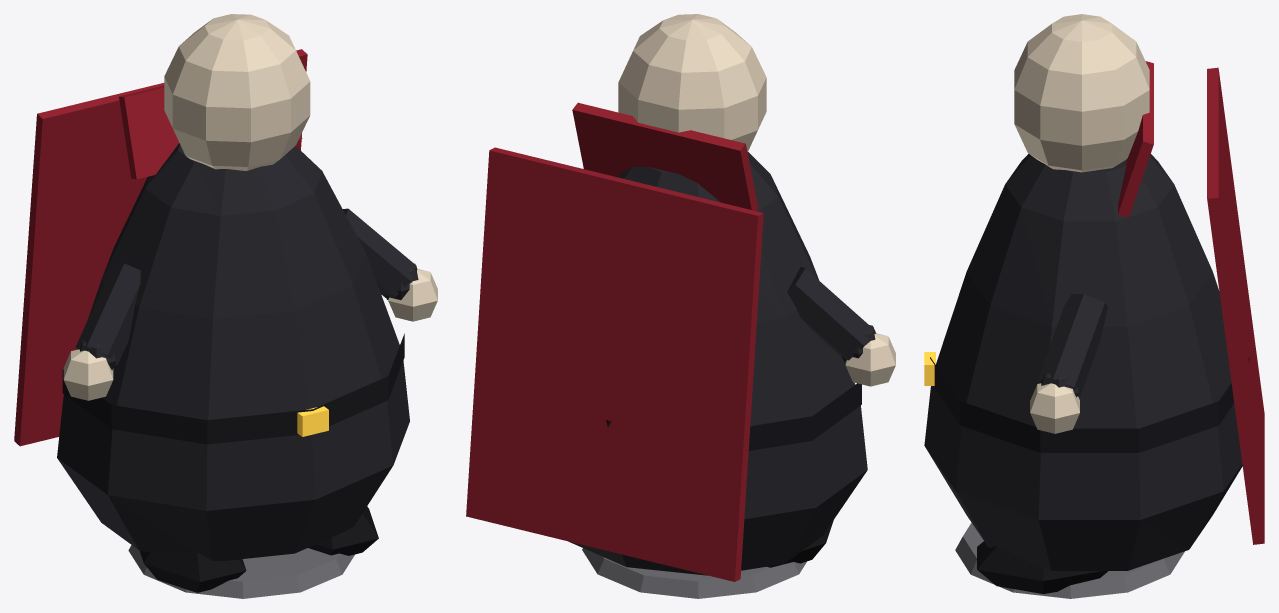
File: mannequin_vampire.glb
3 views of the same model, side by side, from view 1: azimuth 30°, elevation 25°; view 2: azimuth 150°, elevation 25°; view 3: azimuth 270°, elevation 25° (orthographic).
Parts seen in each view (by area): view 1: body_vampire_suit (×2), cape_vampire_cape, head_mannequin_plastic, body_black, arms_vampire_suit, stand_mannequin_stand, legs_vampire_shoes, collar_vampire_cape, arms_mannequin_plastic, body_gold; view 2: cape_vampire_cape, body_vampire_suit (×2), head_mannequin_plastic, collar_vampire_cape, stand_mannequin_stand, arms_vampire_suit, body_black, arms_mannequin_plastic; view 3: body_vampire_suit (×2), head_mannequin_plastic, cape_vampire_cape, body_black, arms_vampire_suit, stand_mannequin_stand, legs_vampire_shoes, collar_vampire_cape, arms_mannequin_plastic.
Boxes of the visible parts, x1,y1,x2,y2 form: body_vampire_suit (×2): (57, 143, 409, 560); cape_vampire_cape: (14, 49, 307, 446); head_mannequin_plastic: (164, 14, 310, 170); body_black: (62, 333, 404, 444); arms_vampire_suit: (75, 208, 418, 370); stand_mannequin_stand: (128, 545, 354, 598); legs_vampire_shoes: (139, 506, 378, 592); collar_vampire_cape: (119, 85, 302, 179); arms_mannequin_plastic: (63, 269, 437, 400); body_gold: (297, 406, 328, 436); cape_vampire_cape: (466, 147, 763, 581); body_vampire_suit (×2): (568, 152, 867, 575); head_mannequin_plastic: (618, 14, 766, 151); collar_vampire_cape: (572, 102, 758, 210); stand_mannequin_stand: (582, 548, 806, 598); arms_vampire_suit: (787, 267, 876, 362); body_black: (606, 383, 861, 450); arms_mannequin_plastic: (845, 333, 895, 386); body_vampire_suit (×2): (924, 153, 1242, 570); head_mannequin_plastic: (1014, 14, 1149, 172); cape_vampire_cape: (1207, 67, 1264, 544); body_black: (930, 357, 1249, 452); arms_vampire_suit: (1038, 294, 1107, 397); stand_mannequin_stand: (955, 523, 1184, 598); legs_vampire_shoes: (977, 541, 1107, 593); collar_vampire_cape: (1118, 61, 1153, 217); arms_mannequin_plastic: (1030, 383, 1079, 433).
Size of the model in its own units: 1.13 by 1.53 by 0.8847.
